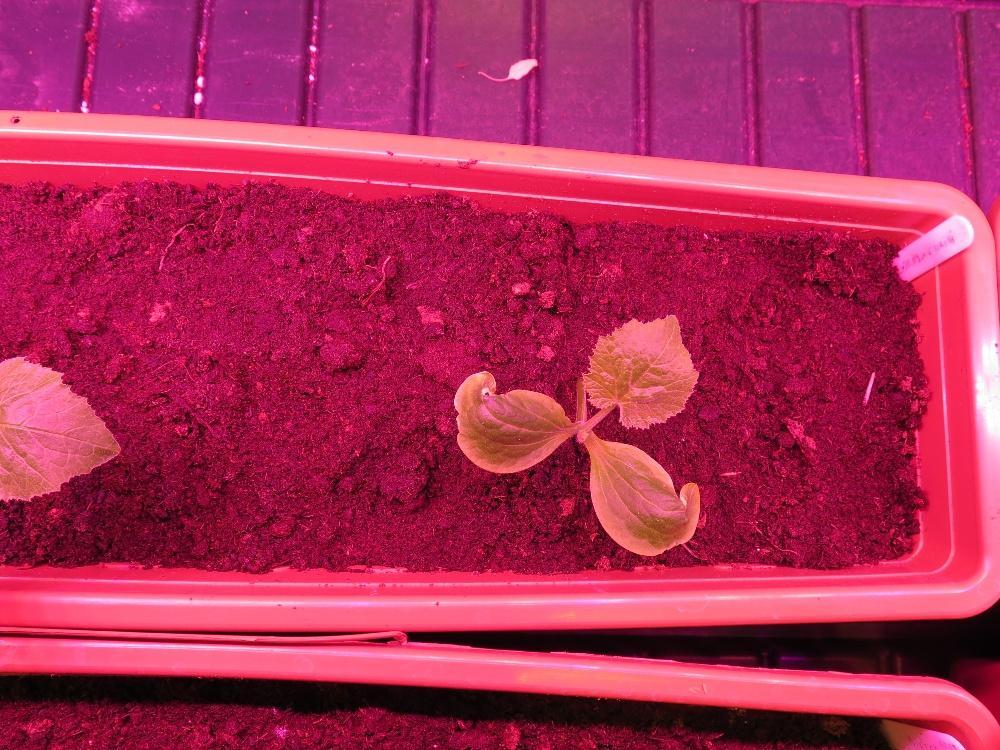crop: (451, 305, 699, 558)
